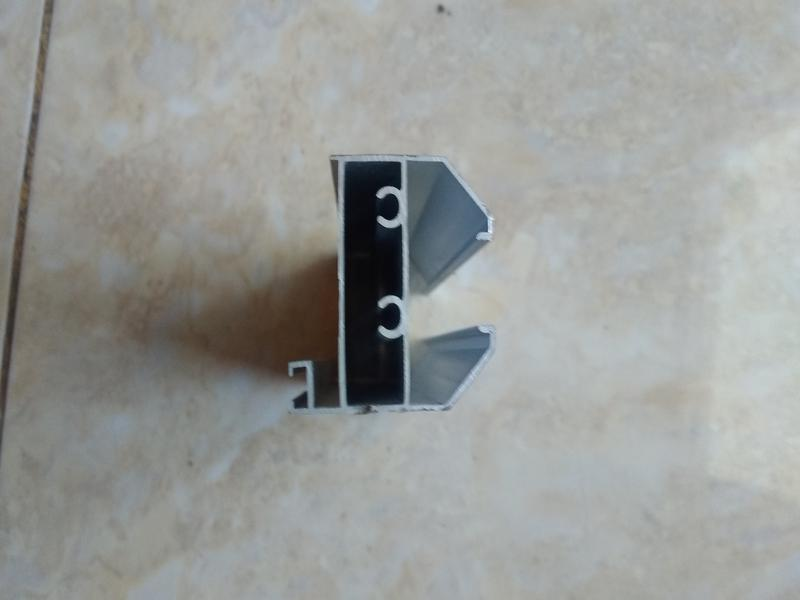Aluminium_3: (276, 130, 521, 431)
